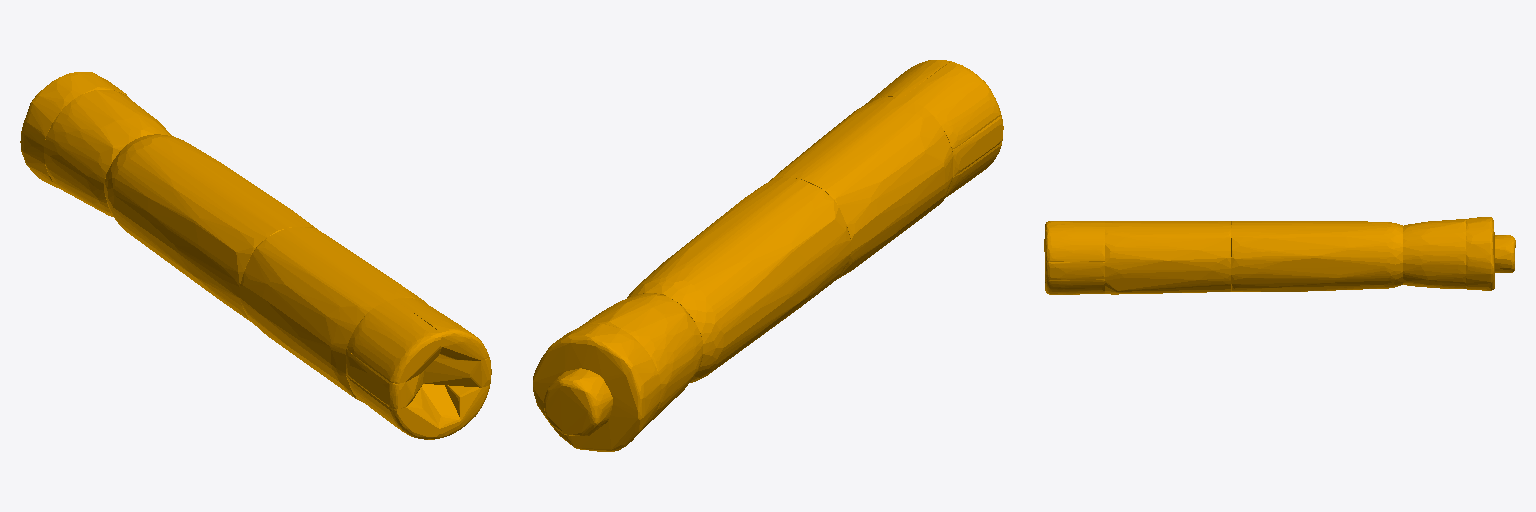
The robot description file, URDF, robot "040_large_marker":
<?xml version="1.0" encoding="UTF-8"?>
<robot name="040_large_marker">
	<link name="base">
		<collision>
			<geometry>
				<mesh filename="..\vhacd\040_large_marker_vhacd.obj" scale="1.0 1.0 1.0"/>
			</geometry>
			<origin xyz="0 0 0"/>
			<contact_coefficients mu="0.24" />
		</collision>
		<visual>
			<geometry>
				<mesh filename="..\vhacd\040_large_marker_vhacd.obj" scale="1.0 1.0 1.0"/>
			</geometry>
			<origin xyz="0 0 0"/>
		</visual>
		<inertial>
			<mass value="0"/>
			<inertia ixx="0.0" ixy="0.0" ixz="-0.0" iyy="0.0" iyz="-0.0" izz="0.0" />
			<origin xyz="-0.03572512486850845 -0.007880770741181608 0.00901829700054892"/>
		</inertial>
	</link>
</robot>

--- Render facts (derived) ---
3 views of the same robot in one strip: view 1: azimuth 30°, elevation 25°; view 2: azimuth 150°, elevation 25°; view 3: azimuth 270°, elevation 25° (orthographic).
Model 040_large_marker with 1 links and 0 joints (none), rooted at base, posed every joint at zero.
Links seen in each view (by area): view 1: base; view 2: base; view 3: base.
Boxes of the visible links, <box> form: base: <box>20,72,491,439</box>; base: <box>533,60,1003,451</box>; base: <box>1044,217,1515,294</box>.
Size in the robot's own frame: 0.0211 by 0.1211 by 0.019 metres.
1 mesh visuals loaded from 1 distinct referenced files (1 OBJ).